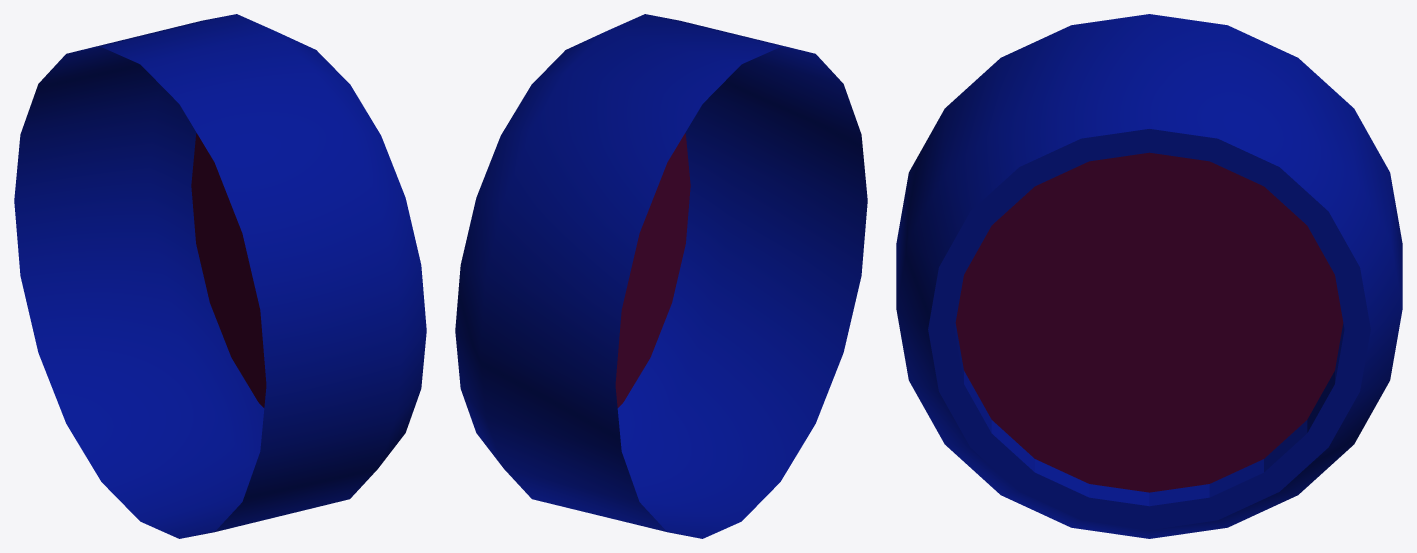
The model's file is OBJ_Cache_Cable.fbx.
The picture shows the model from 3 angles, left to right: view 1: azimuth 30°, elevation 25°; view 2: azimuth 150°, elevation 25°; view 3: azimuth 270°, elevation 25°; orthographic projection.
Parts seen in each view (by area): view 1: OBJ_Cache_Cable; view 2: OBJ_Cache_Cable; view 3: OBJ_Cache_Cable.
Boxes of the visible parts, x1=… form: OBJ_Cache_Cable: x1=14, y1=14, x2=426, y2=538; OBJ_Cache_Cable: x1=455, y1=14, x2=867, y2=538; OBJ_Cache_Cable: x1=896, y1=14, x2=1402, y2=538.
Size of the model in its own units: 0.8128 by 2.02 by 2.02.
